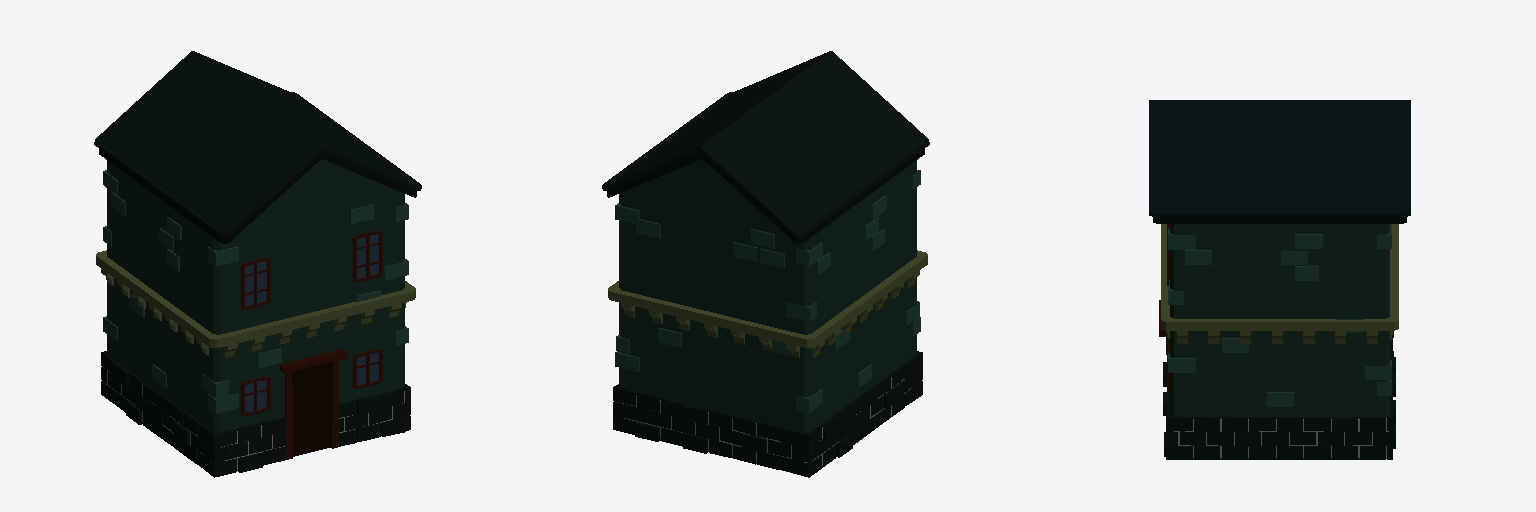
File: 2Story_GableRoof_Mat.obj
The picture shows the model from 3 angles: view 1: azimuth 30°, elevation 25°; view 2: azimuth 150°, elevation 25°; view 3: azimuth 270°, elevation 25°; orthographic projection.
Visible parts, largest first — view 1: 2Story_GableRoof_Mat_Cube.002; view 2: 2Story_GableRoof_Mat_Cube.002; view 3: 2Story_GableRoof_Mat_Cube.002.
Boxes of the visible parts, x1=… form: 2Story_GableRoof_Mat_Cube.002: x1=94, y1=51, x2=421, y2=477; 2Story_GableRoof_Mat_Cube.002: x1=602, y1=51, x2=929, y2=477; 2Story_GableRoof_Mat_Cube.002: x1=1149, y1=100, x2=1410, y2=459.
Bounding box in the file's own units: 2.16 × 3.13 × 2.38.